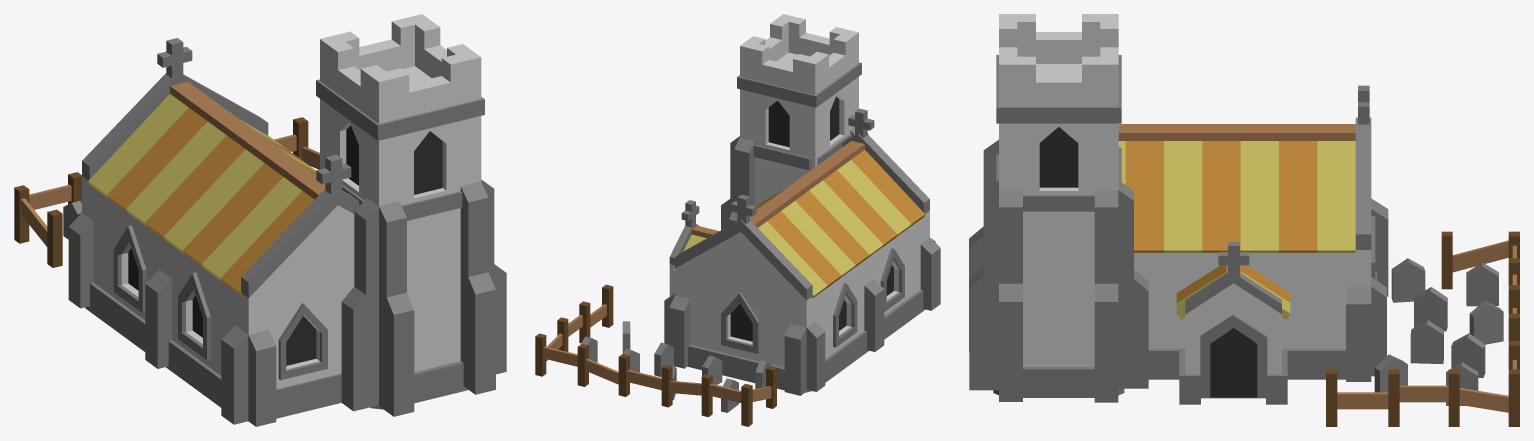
The model's file is Church2.fbx.
3 renders of one model, left to right at view 1: azimuth 30°, elevation 25°; view 2: azimuth 150°, elevation 25°; view 3: azimuth 270°, elevation 25°, orthographic. The views are drawn at different scales.
Parts seen in each view (by area): view 1: Cube.001, Cube.222, Cube.003, Cube.220, Cube.018, Cube.017, Cube.042, Cube.005, Cube.243, Cube.006, Cube.007, Cube.016 (+14 smaller); view 2: Cube.001, Cube.222, Cube.003, Cube.042, Cube.005, Cube.243, Cube.008, Cube.007, Cube.016, Cube.002, Cube.058, Cube.009 (+23 smaller); view 3: Cube.222, Cube.003, Cube.001, Cube.219, Cube.020, Cube.019, Cube.002, Cube.018, Cube.005, Cube.242, Cube.042, Cube.243 (+27 smaller).
Boxes of the visible parts, x1=… form: Cube.001: x1=82, y1=72, x2=359, y2=389; Cube.222: x1=320, y1=14, x2=481, y2=372; Cube.003: x1=88, y1=94, x2=316, y2=295; Cube.220: x1=379, y1=201, x2=414, y2=416; Cube.018: x1=460, y1=181, x2=495, y2=394; Cube.017: x1=341, y1=198, x2=378, y2=411; Cube.042: x1=85, y1=282, x2=341, y2=421; Cube.005: x1=170, y1=81, x2=325, y2=199; Cube.243: x1=316, y1=79, x2=484, y2=140; Cube.006: x1=248, y1=330, x2=276, y2=426; Cube.007: x1=221, y1=325, x2=248, y2=424; Cube.016: x1=145, y1=269, x2=172, y2=368; Cube.001: x1=675, y1=134, x2=929, y2=367; Cube.222: x1=740, y1=14, x2=858, y2=206; Cube.003: x1=735, y1=150, x2=925, y2=298; Cube.042: x1=687, y1=289, x2=925, y2=392; Cube.005: x1=750, y1=140, x2=864, y2=227; Cube.243: x1=737, y1=62, x2=861, y2=107; Cube.008: x1=784, y1=323, x2=806, y2=395; Cube.007: x1=920, y1=238, x2=940, y2=310; Cube.016: x1=864, y1=279, x2=884, y2=351; Cube.002: x1=729, y1=137, x2=754, y2=225; Cube.058: x1=669, y1=295, x2=689, y2=368; Cube.009: x1=806, y1=321, x2=825, y2=391; Cube.222: x1=999, y1=14, x2=1118, y2=389; Cube.003: x1=1118, y1=141, x2=1355, y2=252; Cube.001: x1=1134, y1=117, x2=1375, y2=348; Cube.219: x1=1185, y1=272, x2=1281, y2=398; Cube.020: x1=1094, y1=190, x2=1118, y2=402; Cube.019: x1=999, y1=190, x2=1022, y2=401; Cube.002: x1=1118, y1=180, x2=1148, y2=388; Cube.018: x1=969, y1=180, x2=998, y2=390; Cube.005: x1=1118, y1=124, x2=1355, y2=140; Cube.242: x1=1210, y1=328, x2=1257, y2=397; Cube.042: x1=1148, y1=271, x2=1376, y2=379; Cube.243: x1=996, y1=55, x2=1121, y2=123.
Bounding box in the file's own units: 1146 × 1160 × 1749.
